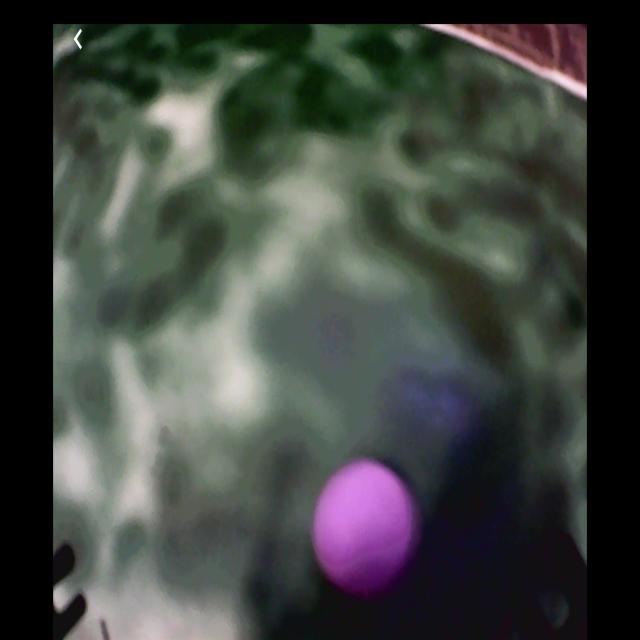ball: (315, 456, 415, 598)
